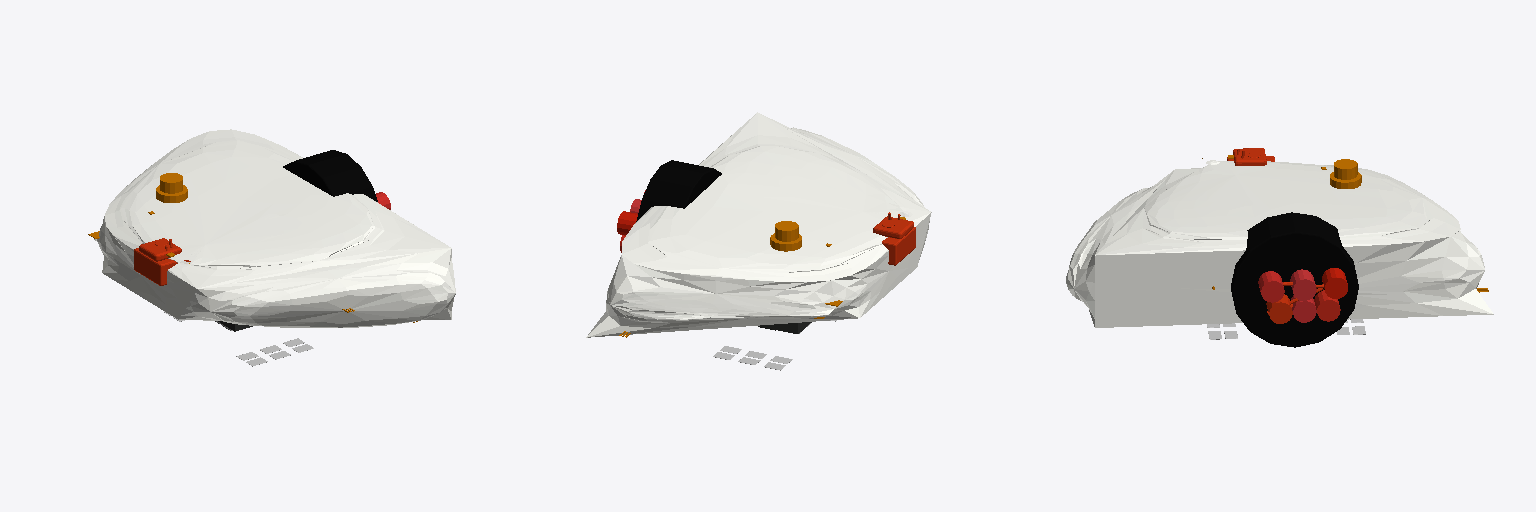
File: creft1.obj
3 renders of one model, left to right at view 1: azimuth 30°, elevation 25°; view 2: azimuth 150°, elevation 25°; view 3: azimuth 270°, elevation 25°, orthographic.
Parts seen in each view (by area): view 1: Spacecraft_Hull, Engine_Housing, Cockpit_Base; view 2: Spacecraft_Hull, Engine_Housing, Cockpit_Base, Cockpit_Window; view 3: Spacecraft_Hull, Engine_Housing, Engine_Nozzle_2, Engine_Nozzle_0, Engine_Nozzle_1, Engine_Nozzle_3.
Part boxes in pixels (bbox=[...]): Spacecraft_Hull: bbox=[94, 129, 455, 327]; Engine_Housing: bbox=[283, 150, 377, 201]; Cockpit_Base: bbox=[134, 248, 190, 285]; Spacecraft_Hull: bbox=[586, 112, 931, 337]; Engine_Housing: bbox=[636, 160, 721, 221]; Cockpit_Base: bbox=[882, 227, 915, 265]; Cockpit_Window: bbox=[873, 216, 913, 238]; Spacecraft_Hull: bbox=[1066, 160, 1493, 327]; Engine_Housing: bbox=[1231, 212, 1358, 347]; Engine_Nozzle_2: bbox=[1258, 271, 1284, 302]; Engine_Nozzle_0: bbox=[1322, 268, 1347, 298]; Engine_Nozzle_1: bbox=[1290, 269, 1316, 300]; Engine_Nozzle_3: bbox=[1314, 290, 1340, 321].
Size of the model in its own units: 4.26 by 2.35 by 6.29.